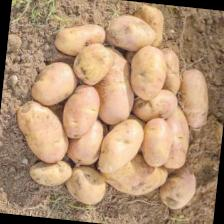potato: (11, 98, 73, 166), (90, 46, 138, 127), (96, 148, 169, 198), (96, 116, 146, 177), (125, 44, 168, 104), (28, 59, 78, 109), (60, 83, 102, 141), (176, 67, 212, 130), (104, 13, 156, 54), (52, 20, 106, 59), (72, 41, 116, 87), (138, 116, 174, 170), (62, 164, 108, 206), (130, 86, 178, 125), (27, 158, 74, 188)
